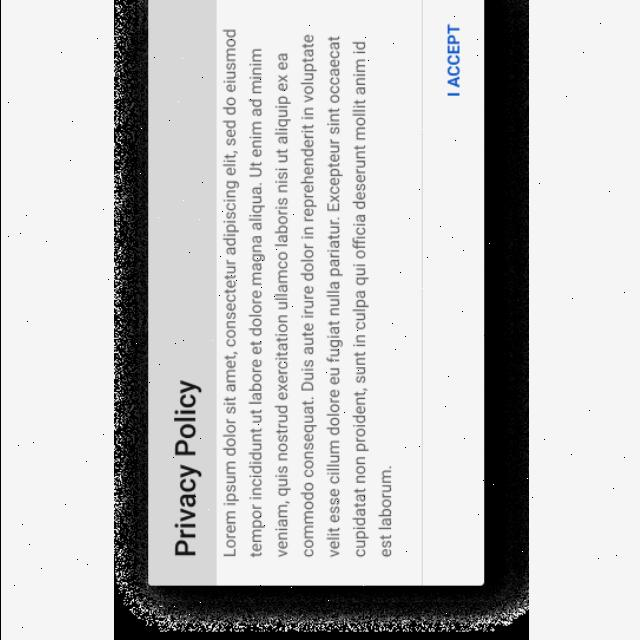QLabel: (220, 28, 394, 560), (172, 379, 200, 556), (445, 24, 461, 100)
VDialog: (146, 0, 484, 586)
VDivider: (418, 0, 422, 586)
